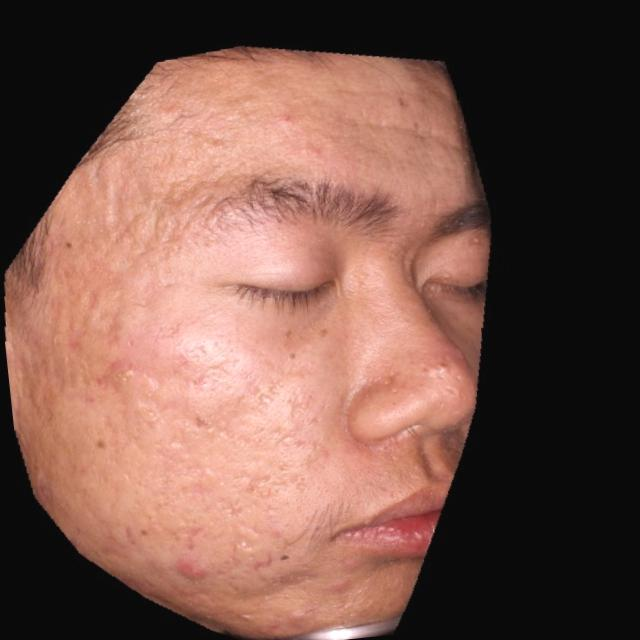blackhead: (194, 415, 210, 427), (96, 439, 105, 448), (284, 329, 291, 338), (321, 328, 328, 336), (140, 529, 148, 535), (280, 554, 288, 560), (288, 352, 294, 360), (65, 242, 72, 248), (440, 362, 447, 368), (413, 122, 418, 127), (399, 101, 404, 106)
nodule: (176, 555, 209, 582)
